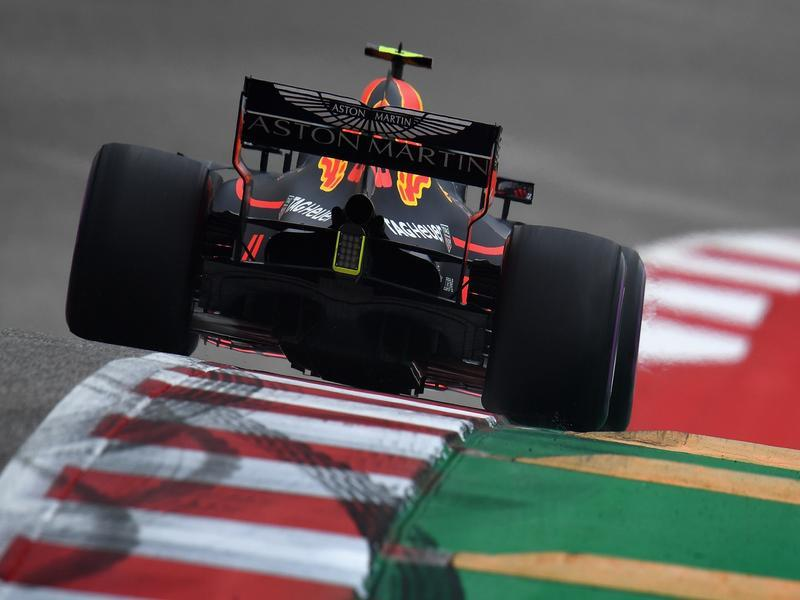racecar: (58, 26, 650, 442)
